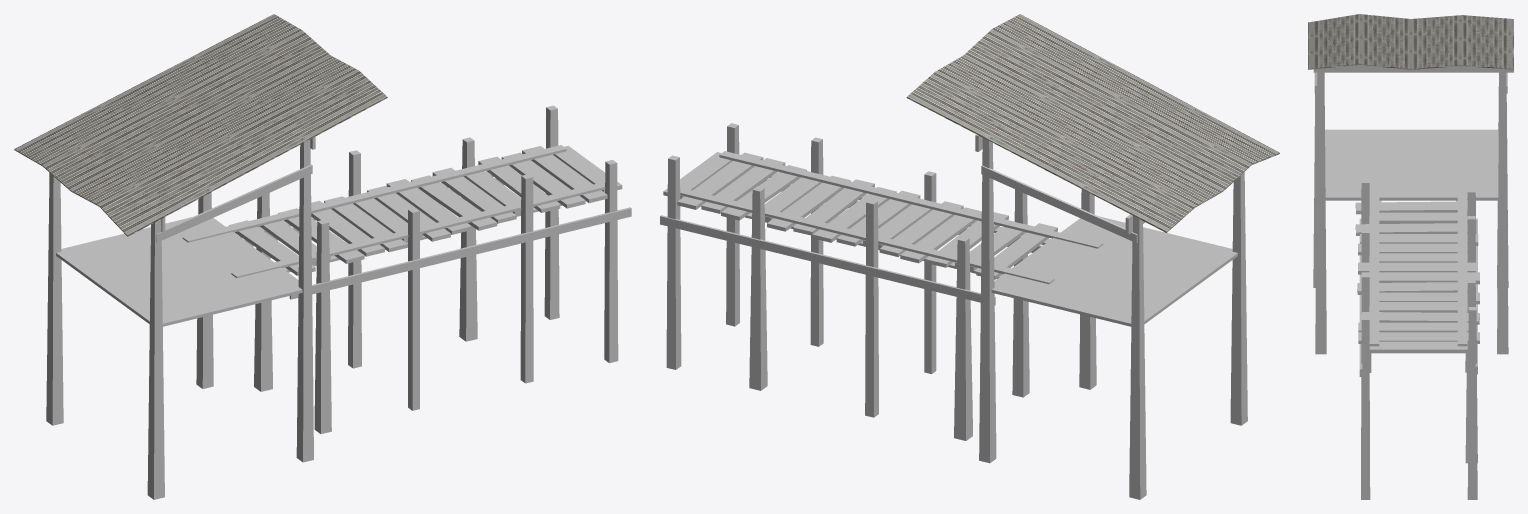
Rendered from Tropical_Jetty01.DAE.
3 renders of one model, left to right at view 1: azimuth 30°, elevation 25°; view 2: azimuth 150°, elevation 25°; view 3: azimuth 270°, elevation 25°, orthographic. The views are drawn at different scales.
Parts seen in each view (by area): view 1: jettyOne256; view 2: jettyOne256; view 3: jettyOne256.
Part boxes in pixels (box(x1,y1,x2,y2)): jettyOne256: box(14, 14, 631, 499); jettyOne256: box(660, 14, 1279, 499); jettyOne256: box(1308, 14, 1513, 499).
Size of what is drawn, in the model's own units: 665 by 246 by 423.
